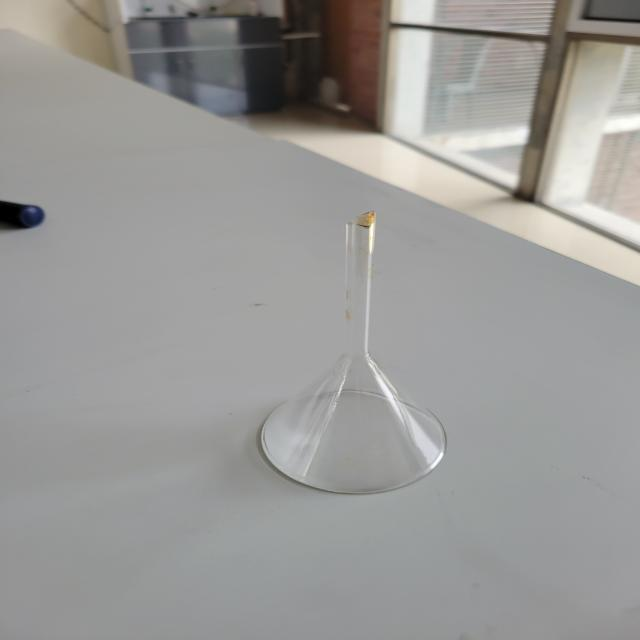Funnel: (227, 192, 480, 530)
